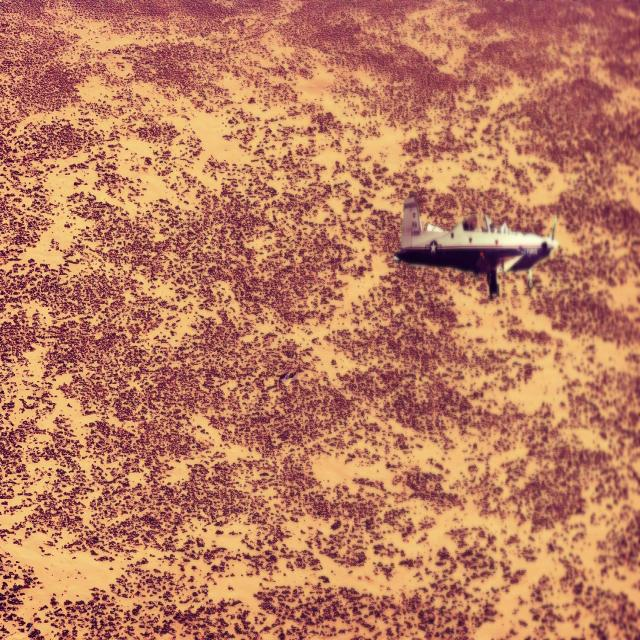airplane: (393, 192, 559, 299)
